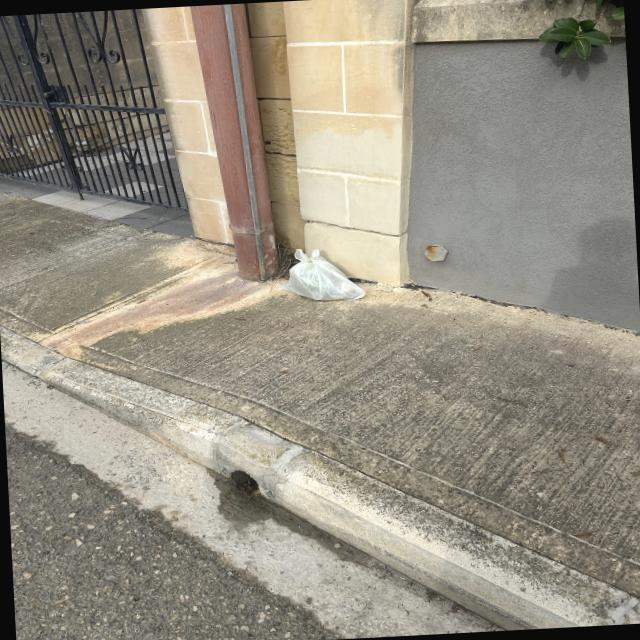white_bag: (274, 241, 372, 309)
